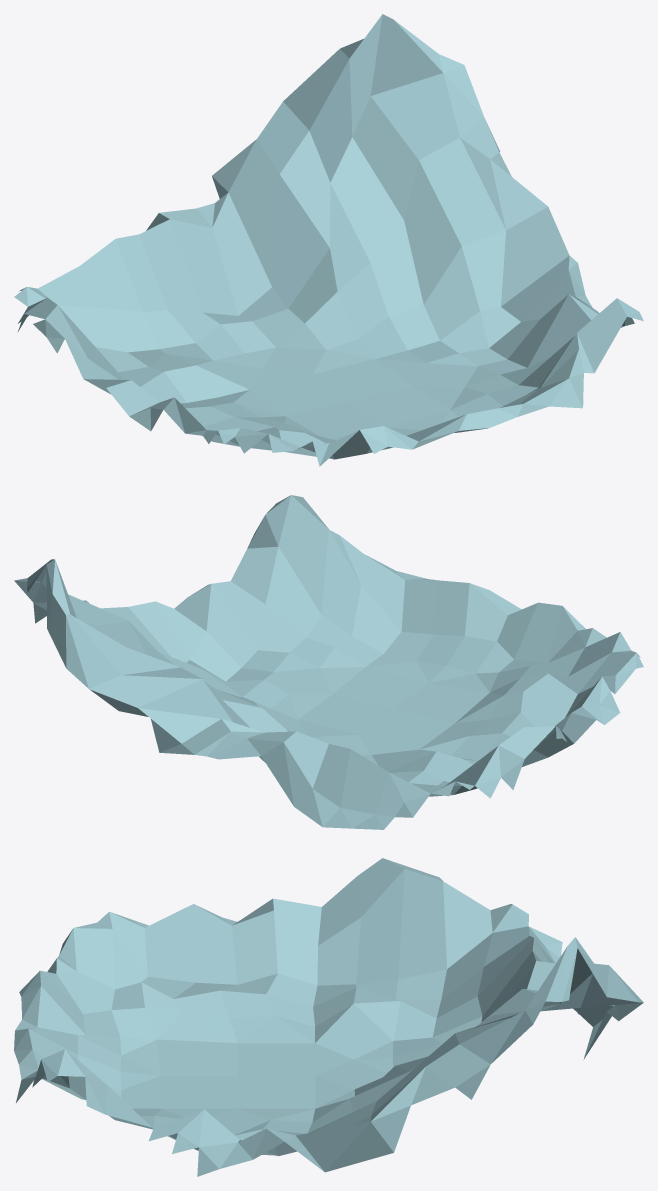
The model's file is mountain-range.glb.
3 renders of one model, top to bottom at view 1: azimuth 30°, elevation 25°; view 2: azimuth 150°, elevation 25°; view 3: azimuth 270°, elevation 25°, orthographic. The views are drawn at different scales.
Parts seen in each view (by area): view 1: terrain; view 2: terrain; view 3: terrain.
Part boxes in pixels (x1=…): terrain: x1=14, y1=14, x2=643, y2=466; terrain: x1=14, y1=495, x2=643, y2=829; terrain: x1=14, y1=858, x2=643, y2=1176.
Bounding box in the file's own units: 177 × 75.35 × 180.
